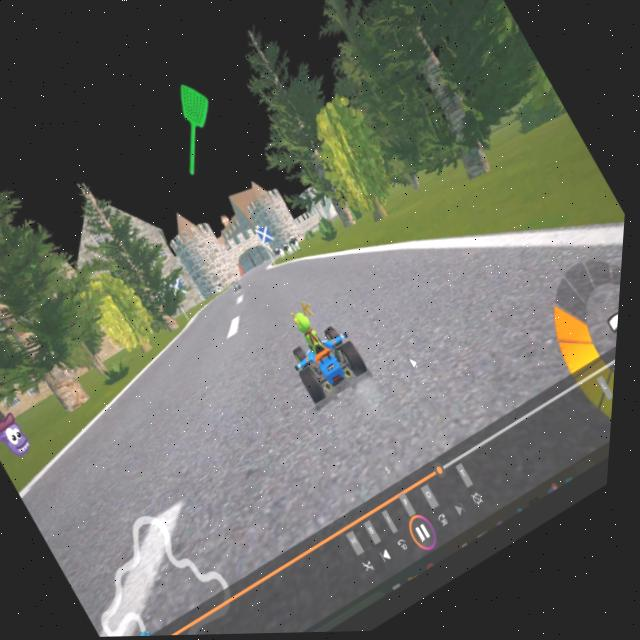enemy_kart: (230, 276, 248, 293)
player_kart: (263, 284, 389, 420)
track: (123, 289, 374, 567)
